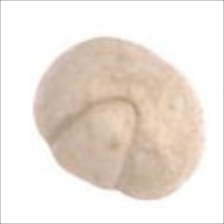L5: (45, 95, 143, 195)
L6: (30, 35, 207, 203)
